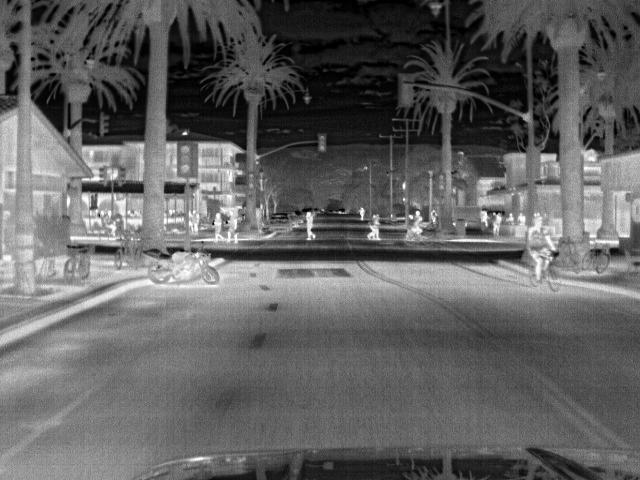car: (265, 212, 293, 231), (335, 206, 349, 218)
person: (524, 216, 559, 281), (225, 209, 241, 245), (211, 209, 227, 243), (303, 209, 320, 239), (367, 211, 385, 239), (411, 210, 427, 236), (491, 212, 503, 236), (478, 207, 492, 227), (356, 201, 369, 222), (504, 210, 516, 224), (516, 211, 528, 225)
